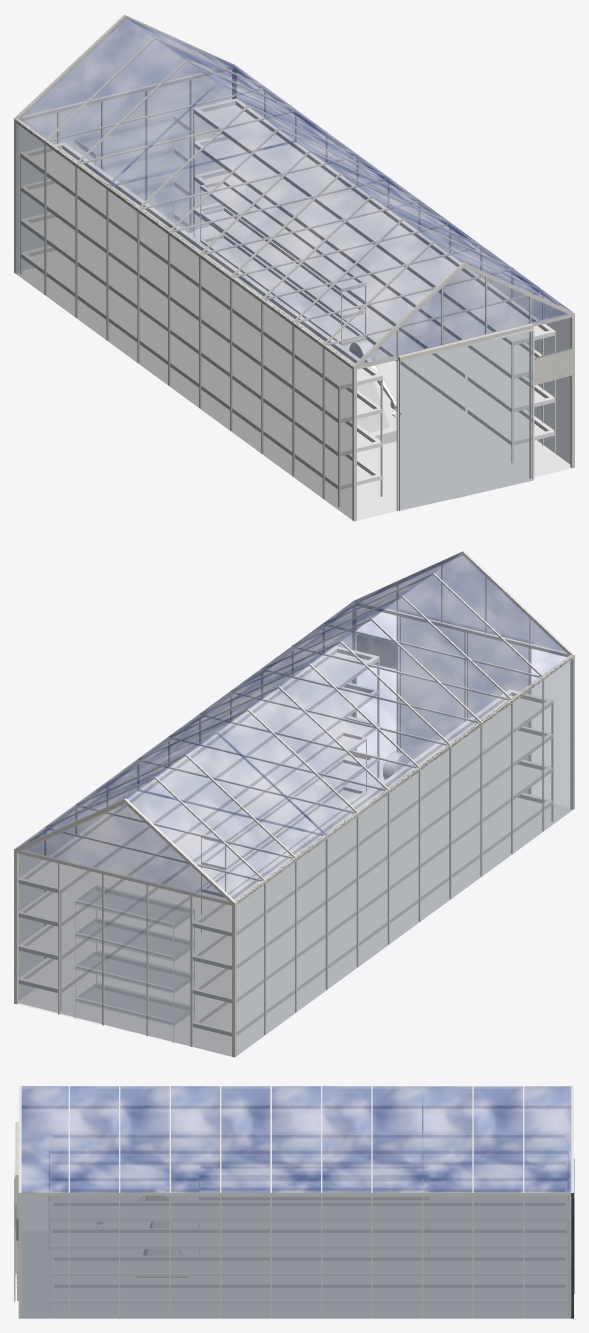
The model's file is greenhouse_clean.dae.
The picture shows the model from 3 angles, top to bottom: view 1: azimuth 30°, elevation 25°; view 2: azimuth 150°, elevation 25°; view 3: azimuth 270°, elevation 25°; orthographic projection. The views are drawn at different scales.
Visible parts, largest first — view 1: SketchUp (×13), group_8 (×5), group_13 (×3), group_5, group_15 (×3), group_12 (×2), group_70, group_17, group_71, group_66 (×2), group_22, group_1 (+6 smaller); view 2: SketchUp (×10), group_8 (×5), group_13 (×3), group_15 (×3), group_5, group_12 (×2), group_70, group_17, group_24, group_21, group_22, group_71 (+5 smaller); view 3: SketchUp (×4), group_8 (×6), group_13 (×6), group_5, group_12 (×3), group_15 (×4), group_71, group_70, group_64 (×2), group_69, group_90, group_4.
Part boxes in pixels (x1,y1,x2,y2): SketchUp (×13): (16,16,573,519); group_8 (×5): (21,98,555,389); group_13 (×3): (21,135,542,422); group_5: (16,225,571,520); group_15 (×3): (21,168,556,456); group_12 (×2): (21,202,556,489); group_70: (15,119,353,368); group_17: (75,116,194,157); group_71: (234,66,570,310); group_66 (×2): (14,14,464,369); group_22: (99,149,193,182); group_1: (19,66,233,120); SketchUp (×10): (18,552,572,1056); group_8 (×5): (18,646,553,936); group_13 (×3): (18,682,552,969); group_15 (×3): (18,716,552,1003); group_5: (17,761,572,1056); group_12 (×2): (18,750,553,1036); group_70: (235,655,573,904); group_17: (75,885,194,928); group_24: (75,950,194,993); group_21: (75,983,194,1025); group_22: (75,918,194,960); group_71: (17,602,354,847); SketchUp (×4): (21,1086,571,1318); group_8 (×6): (49,1133,569,1221); group_13 (×6): (49,1160,569,1249); group_5: (22,1231,570,1318); group_12 (×3): (49,1222,568,1303); group_15 (×4): (49,1188,569,1276); group_71: (21,1192,571,1195); group_70: (22,1105,571,1108); group_64 (×2): (18,1086,573,1192); group_69: (18,1193,21,1318); group_90: (143,1222,182,1255); group_4: (571,1193,573,1318).
Size of the model in its own units: 247 by 664 by 247.
Materials: 9 (7 with a texture image).
